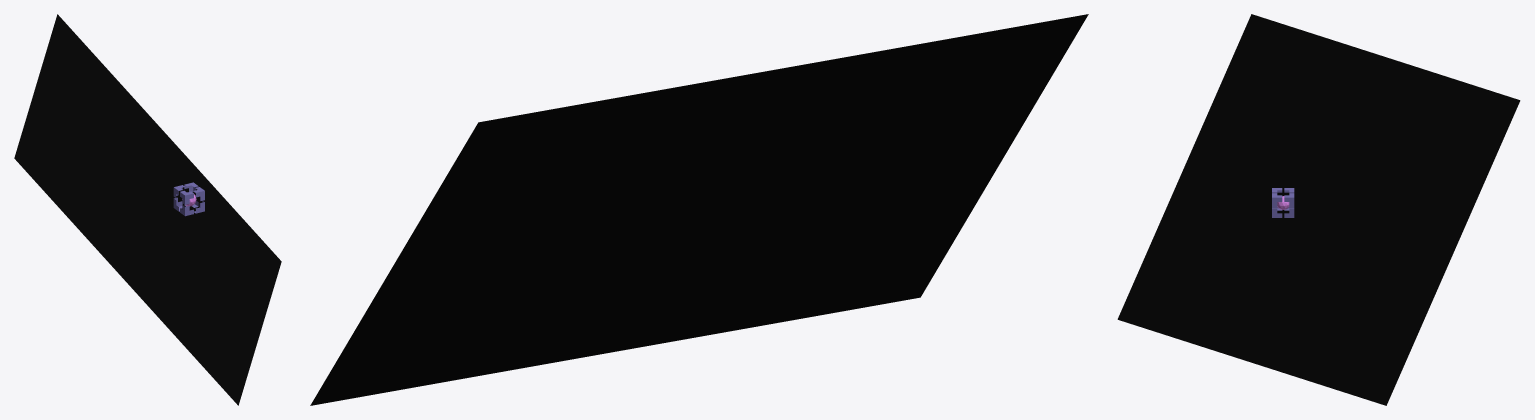
Rendered from Power Core.fbx.
The picture shows the model from 3 angles, left to right: view 1: azimuth 30°, elevation 25°; view 2: azimuth 150°, elevation 25°; view 3: azimuth 270°, elevation 25°; orthographic projection. The views are drawn at different scales.
Parts seen in each view (by area): view 1: Plane, Cube; view 2: Plane; view 3: Plane, Cube.
Part boxes in pixels (x1=…): Plane: x1=14, y1=14, x2=281, y2=405; Cube: x1=173, y1=182, x2=204, y2=216; Plane: x1=310, y1=14, x2=1088, y2=405; Plane: x1=1117, y1=14, x2=1520, y2=405; Cube: x1=1272, y1=188, x2=1294, y2=217.
Bounding box in the file's own units: 3737 × 2502 × 3956.
